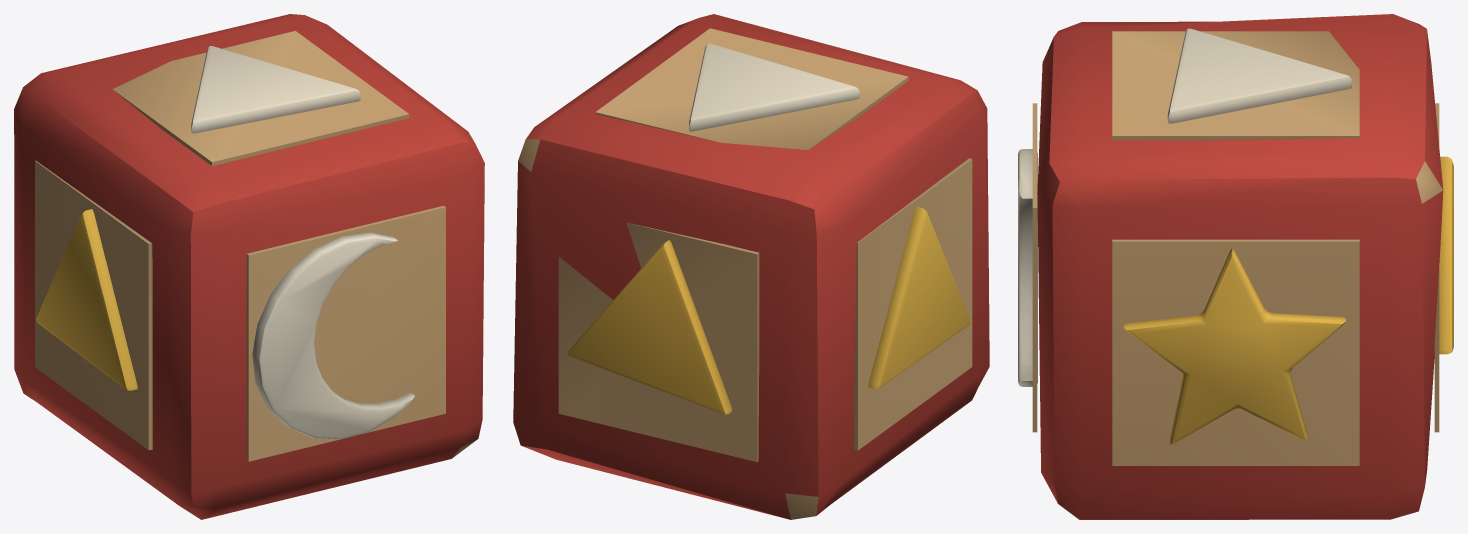
Rendered from den_block_red.glb.
The picture shows the model from 3 angles, left to right: view 1: azimuth 30°, elevation 25°; view 2: azimuth 150°, elevation 25°; view 3: azimuth 270°, elevation 25°; orthographic projection. The views are drawn at different scales.
Visible parts, largest first — view 1: den_block_red; view 2: den_block_red; view 3: den_block_red.
Part boxes in pixels (bbox=[...]): den_block_red: bbox=[14, 14, 484, 519]; den_block_red: bbox=[513, 14, 989, 519]; den_block_red: bbox=[1018, 14, 1453, 519].
Size of the model in its own units: 4.93 by 4.79 by 4.93.
